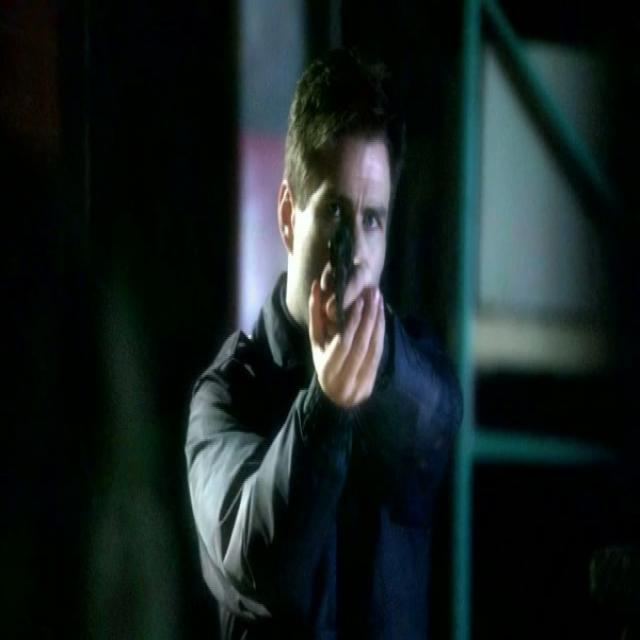weapons: (312, 194, 371, 397)
